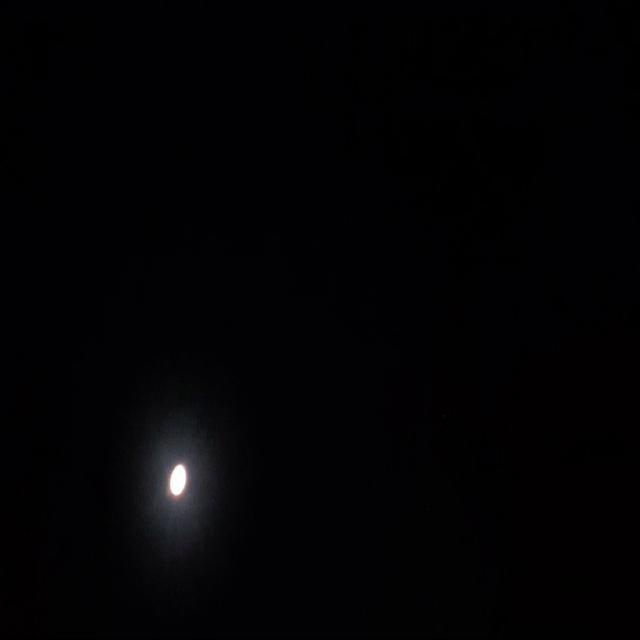moon: (172, 468, 193, 506)
